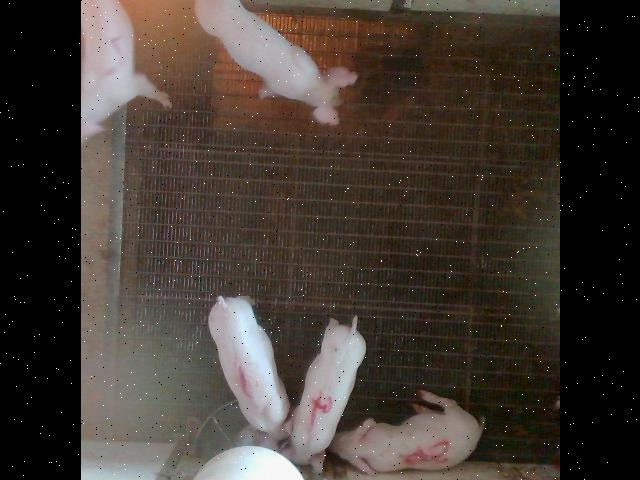pig-1: (208, 296, 289, 439)
pig-2: (81, 0, 170, 142)
pig-4: (289, 316, 365, 464)
pig-5: (329, 390, 482, 475)
